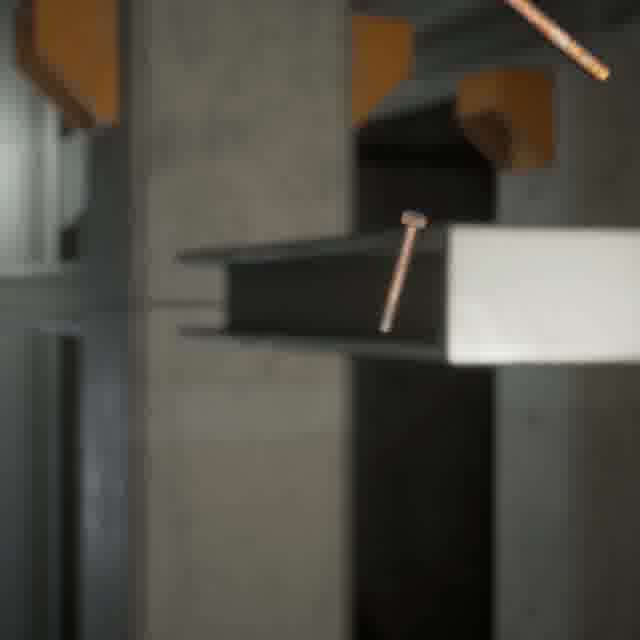bolt: (494, 0, 615, 88), (374, 206, 432, 337)
